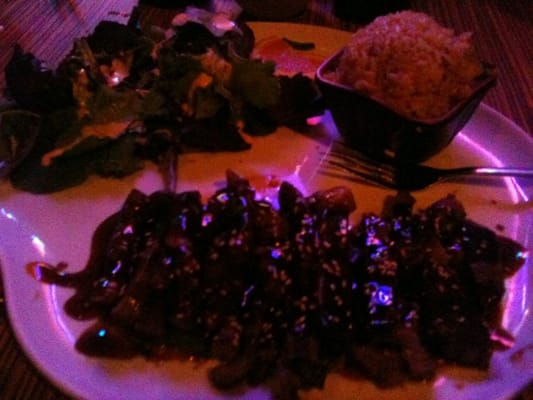curry: (3, 5, 532, 396)
